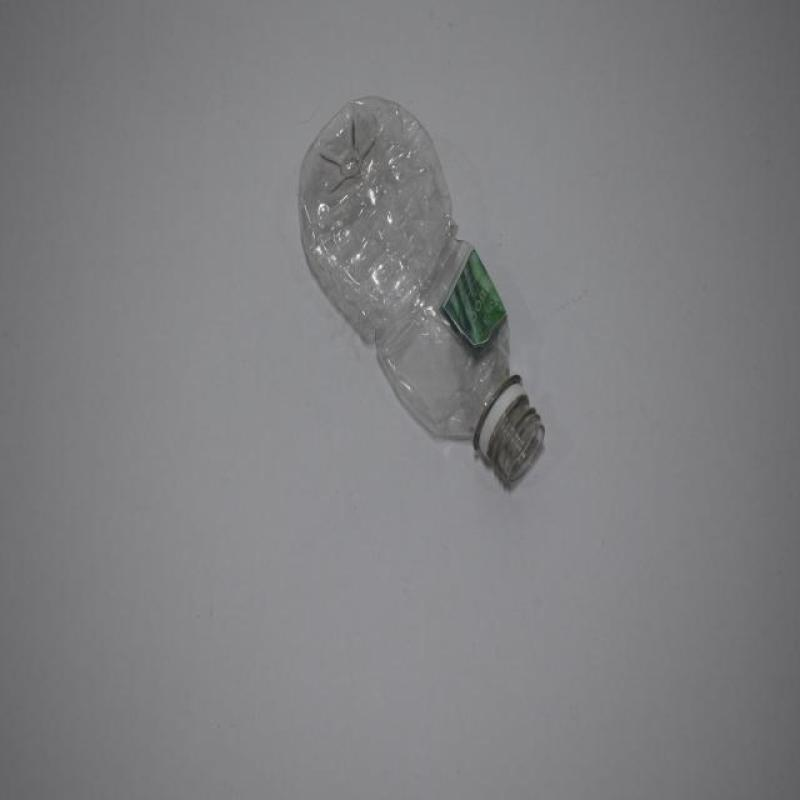botella: (296, 95, 549, 495)
